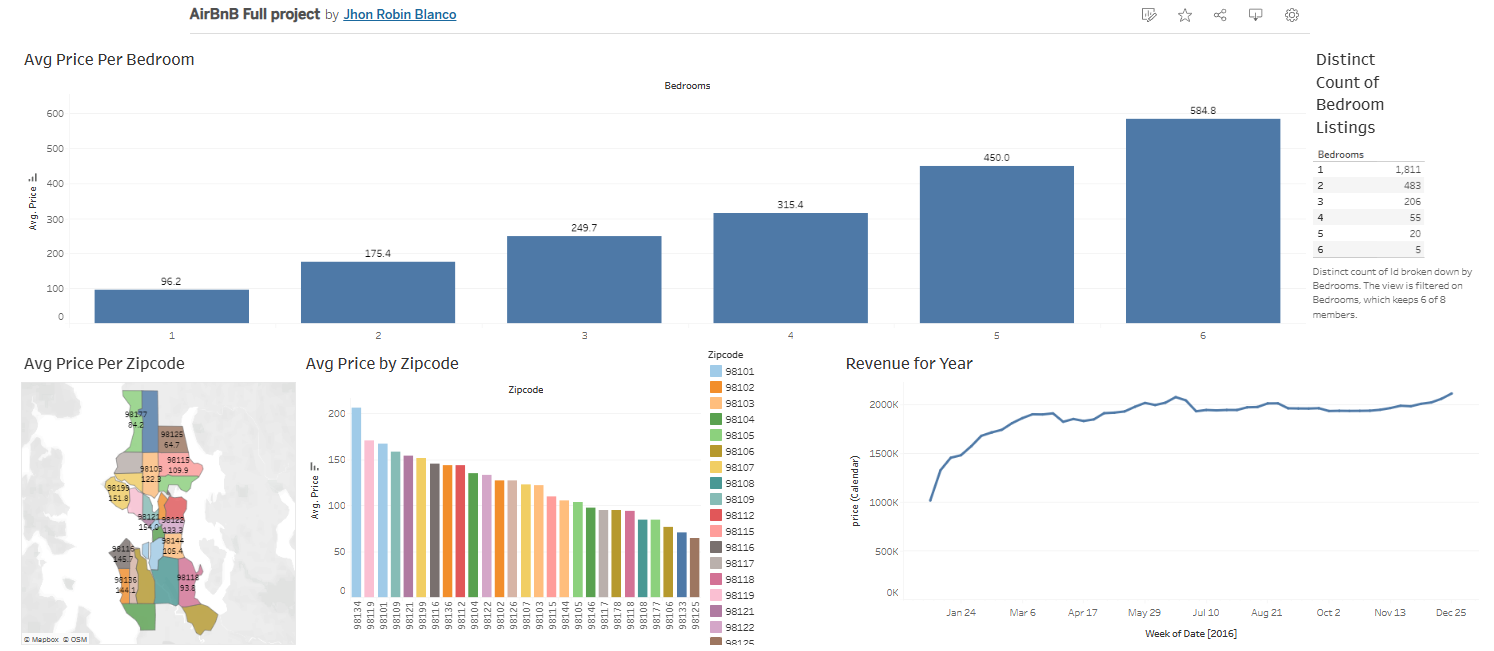

What the dashboard file says about the page in this screenshot:
{"tool":"tableau","page":{"name":"Dashboard 1","canvas":[1000,1000],"units":"permille","ordinal":0},"visuals":[{"type":"worksheet","title":"Sheet 4","mark":"Automatic","rows":["price"],"cols":["bedrooms"],"box":[4.7,8.9,873.6,491.1]},{"type":"worksheet","title":"Sheet 5","mark":"Automatic","rows":["bedrooms"],"box":[878.3,8.9,117,491.1]},{"type":"worksheet","title":"Sheet 2","mark":"Multipolygon","box":[4.7,500,190.6,491.1]},{"type":"worksheet","title":"Sheet 1","mark":"Automatic","rows":["price"],"cols":["zipcode"],"box":[195.3,500,268.1,491.1]},{"type":"legend","title":"Sheet 1","param":"[federated.1bpa2me1rxwir314n1bac08jbi3p].[none:zipcode:ok]","box":[463.4,500,72.6,491.1]},{"type":"worksheet","title":"Sheet 3","mark":"Automatic","rows":["price (Calendar)"],"cols":["date"],"box":[536,500,459.3,491.1]}]}

Visuals, with their boxes on the dashboard's canvas, which has no fixed pixel size, in thousandths of its width and height (x1, y1, x2, y2). These are canvas units, not pixel positions in the 1494x651 screenshot, which may show the page scaled, cropped or inside an application window:
"Sheet 4" worksheet: bbox=(5, 9, 878, 500)
"Sheet 5" worksheet: bbox=(878, 9, 995, 500)
"Sheet 2" worksheet (Multipolygon marks): bbox=(5, 500, 195, 991)
"Sheet 1" worksheet: bbox=(195, 500, 463, 991)
"Sheet 1" legend: bbox=(463, 500, 536, 991)
"Sheet 3" worksheet: bbox=(536, 500, 995, 991)
